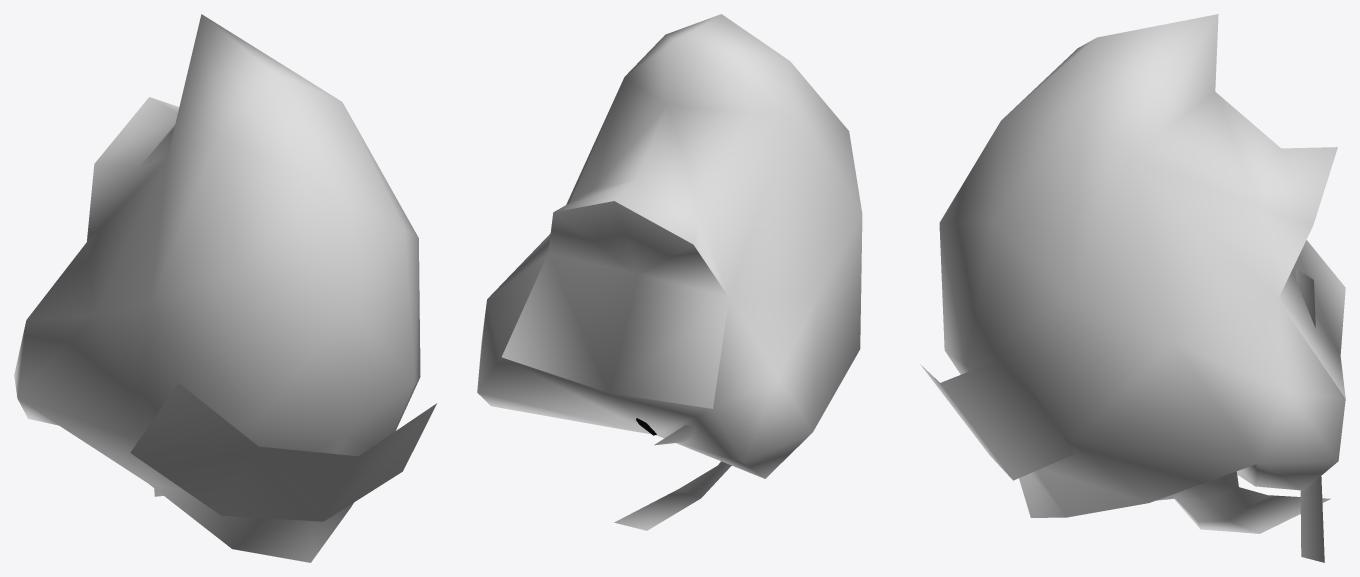
Rendered from model_rooster.glb.
The picture shows the model from 3 angles, left to right: view 1: azimuth 30°, elevation 25°; view 2: azimuth 150°, elevation 25°; view 3: azimuth 270°, elevation 25°; orthographic projection. The views are drawn at different scales.
Parts seen in each view (by area): view 1: hood.model_rooster-MeshNodes["mesh_hood_rooster"]; view 2: hood.model_rooster-MeshNodes["mesh_hood_rooster"], hood.model_rooster-MeshNodes["mesh_mask"]; view 3: hood.model_rooster-MeshNodes["mesh_hood_rooster"], hood.model_rooster-MeshNodes["mesh_mask"], hood.model_rooster-MeshNodes["mesh_tassle_l"].
Part boxes in pixels (x1,y1,x2,y2): hood.model_rooster-MeshNodes["mesh_hood_rooster"]: [14, 14, 436, 562]; hood.model_rooster-MeshNodes["mesh_hood_rooster"]: [477, 14, 862, 478]; hood.model_rooster-MeshNodes["mesh_mask"]: [614, 461, 731, 530]; hood.model_rooster-MeshNodes["mesh_hood_rooster"]: [920, 14, 1345, 517]; hood.model_rooster-MeshNodes["mesh_mask"]: [1156, 471, 1330, 533]; hood.model_rooster-MeshNodes["mesh_tassle_l"]: [1298, 270, 1324, 562].
Size of the model in its own units: 0.53 by 0.7472 by 0.5479.
Materials: 2 (1 with a texture image).
